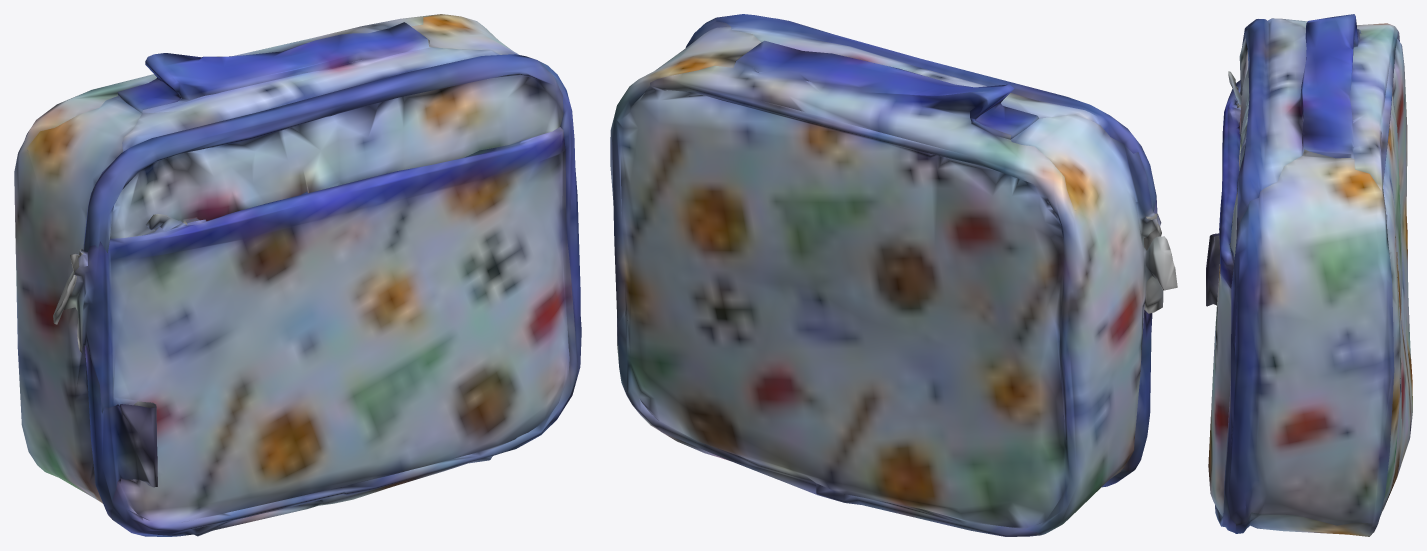
File: Olive_Kids_Game_On_Lunch_Box-medium.glb
The picture shows the model from 3 angles, left to right: view 1: azimuth 30°, elevation 25°; view 2: azimuth 150°, elevation 25°; view 3: azimuth 270°, elevation 25°; orthographic projection. The views are drawn at different scales.
Visible parts, largest first — view 1: Olive_Kids_Game_On_Lunch_Box; view 2: Olive_Kids_Game_On_Lunch_Box; view 3: Olive_Kids_Game_On_Lunch_Box.
Boxes of the visible parts, box(x1,y1,x2,y2) form: Olive_Kids_Game_On_Lunch_Box: box(14, 14, 581, 536); Olive_Kids_Game_On_Lunch_Box: box(610, 14, 1177, 536); Olive_Kids_Game_On_Lunch_Box: box(1206, 14, 1412, 536).
Bounding box in the file's own units: 0.2747 × 0.2201 × 0.1035.
1 material, 1 textured.
